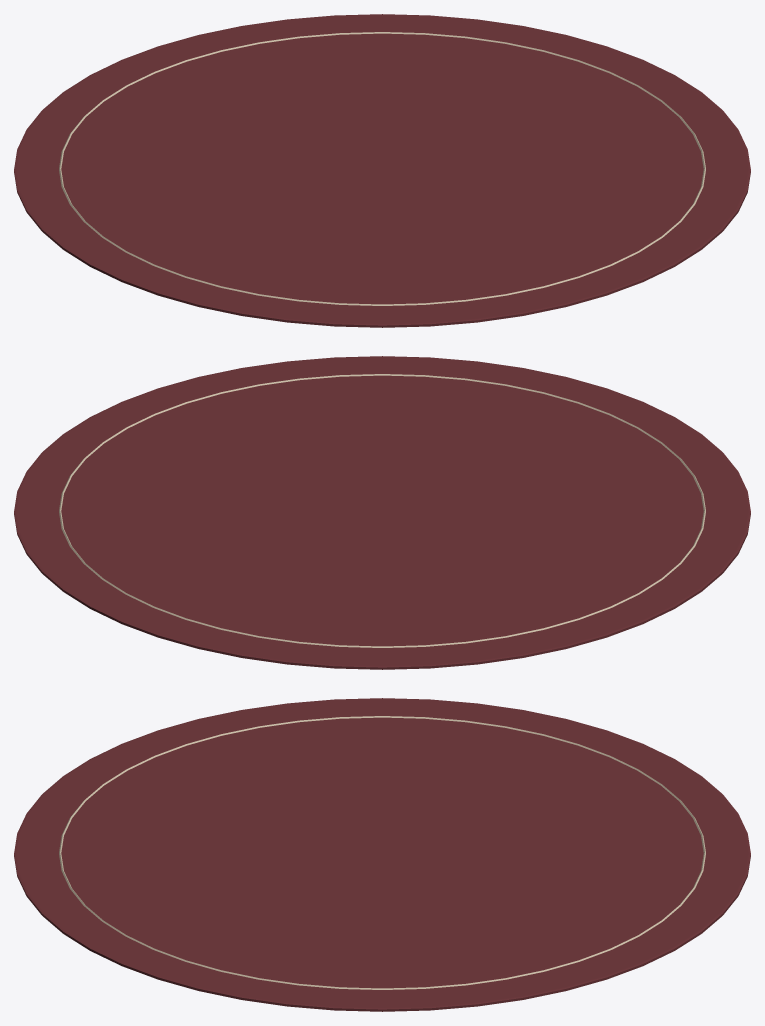
Rendered from prop_rug_round.glb.
The picture shows the model from 3 angles, top to bottom: view 1: azimuth 30°, elevation 25°; view 2: azimuth 150°, elevation 25°; view 3: azimuth 270°, elevation 25°; orthographic projection.
Parts seen in each view (by area): view 1: Rug; view 2: Rug; view 3: Rug.
Part boxes in pixels (x1,y1,x2,y2): Rug: [14, 14, 750, 327]; Rug: [14, 356, 750, 669]; Rug: [14, 698, 750, 1011].
Size of what is drawn, in the model's own units: 2.4 by 0.014 by 2.4.
